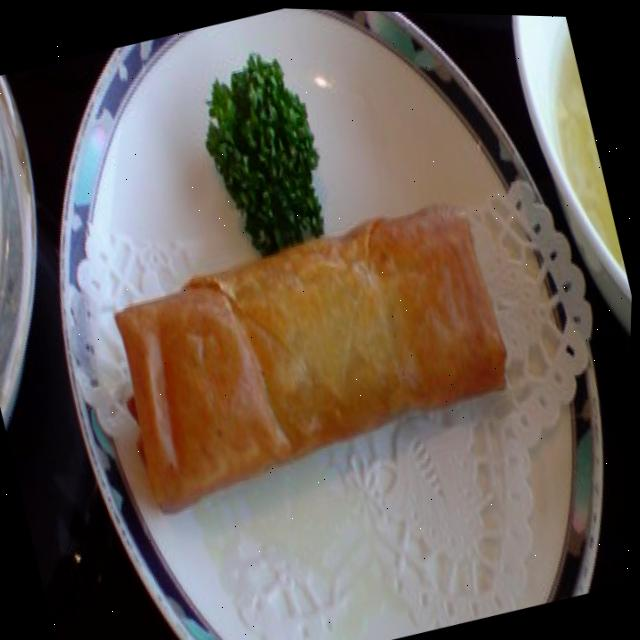鸡蛋料理: (53, 137, 576, 565)
